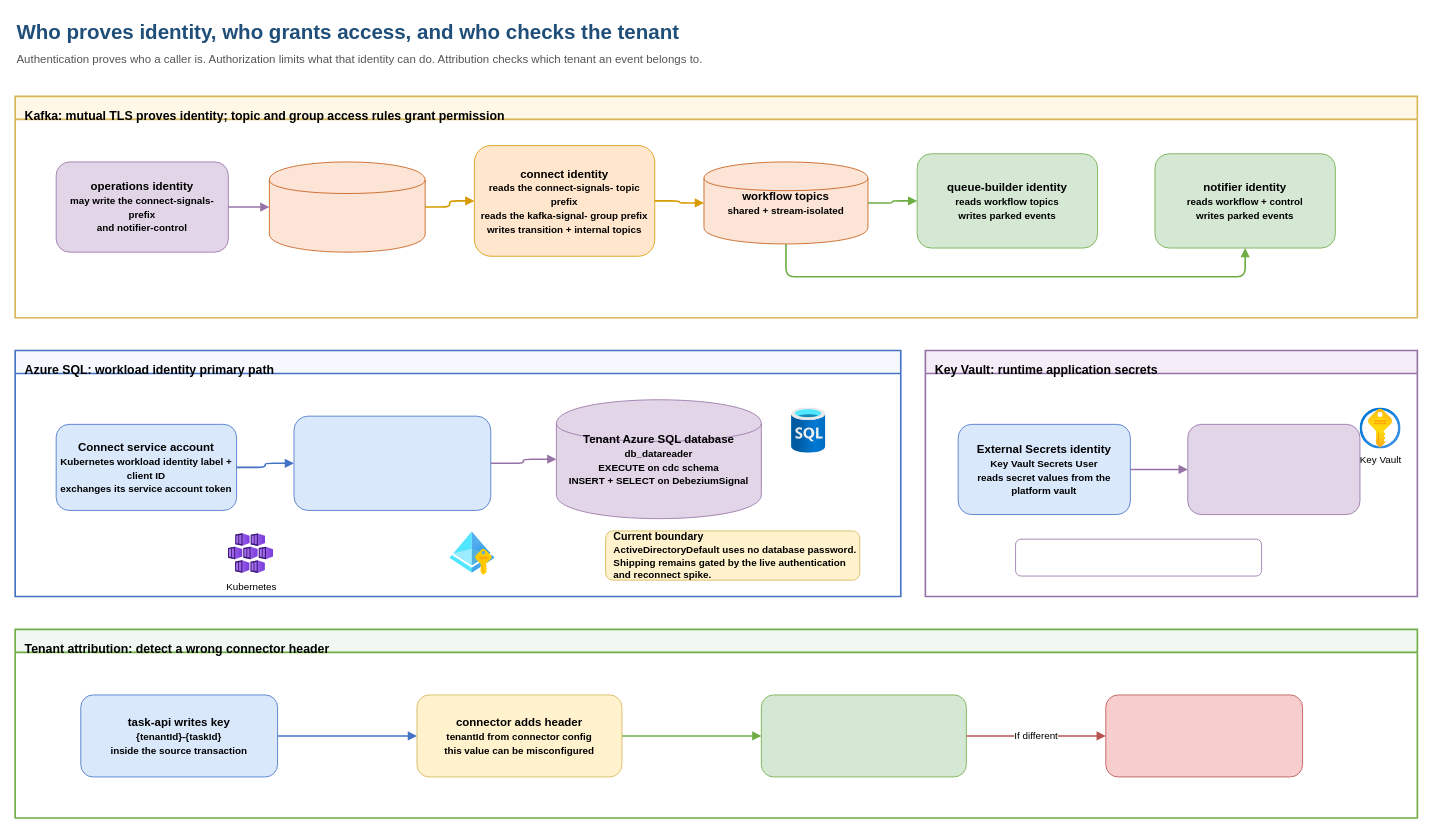
Some shapes in this 1432 by 832 pixel diagram are drawn without their labels. Each missing label, with the centre of its shape:
"Azure Key Vault Cloudflare API token Argo sign-in client secret" goes at (x=1273, y=469).
"Azure SQL" goes at (x=808, y=430).
"connect-signals-{tenantId} one topic per tenant snapshot commands only" goes at (x=347, y=206).
"id-connect user-assigned managed identity reads change records + signal markers" goes at (x=392, y=462).
"Managed identity" goes at (x=471, y=553).
"Mismatch: sev1 alarm pause the connector first" goes at (x=1204, y=735).
"reconciler compares observed tenantId header with dbo.TenantInfo claim" goes at (x=863, y=735).
"This is not the connector's primary Azure SQL path." goes at (x=1138, y=557).
